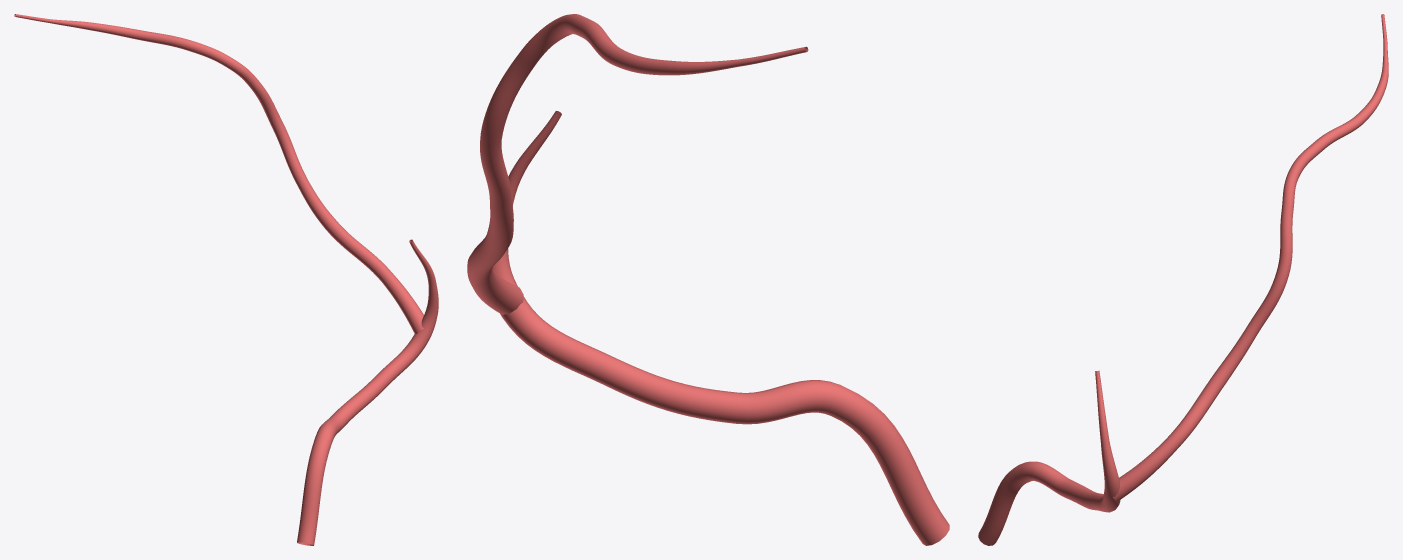
Rendered from Anterior_parietal_artery.l_BezierCurve.153.glb.
3 renders of one model, left to right at view 1: azimuth 30°, elevation 25°; view 2: azimuth 150°, elevation 25°; view 3: azimuth 270°, elevation 25°, orthographic. The views are drawn at different scales.
Parts seen in each view (by area): view 1: Anterior_parietal_artery.l_BezierCurve.153; view 2: Anterior_parietal_artery.l_BezierCurve.153; view 3: Anterior_parietal_artery.l_BezierCurve.153.
Part boxes in pixels (<box>): Anterior_parietal_artery.l_BezierCurve.153: <box>14,14,438,545</box>; Anterior_parietal_artery.l_BezierCurve.153: <box>467,14,949,545</box>; Anterior_parietal_artery.l_BezierCurve.153: <box>978,14,1388,545</box>.
Bounding box in the file's own units: 0.0343 × 0.0471 × 0.0373.
